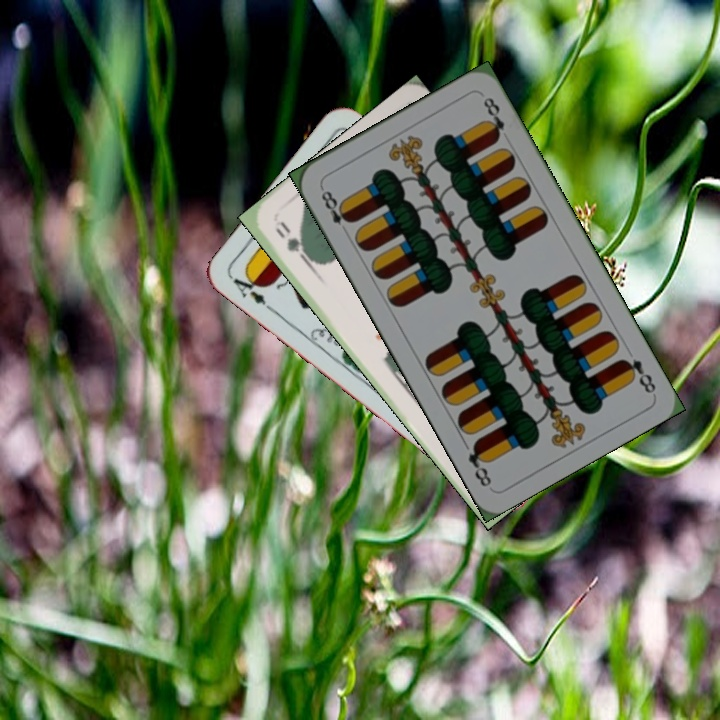E8: (316, 183, 356, 238), (616, 354, 659, 397)
EA: (228, 269, 278, 315)
GO: (271, 224, 316, 268)
